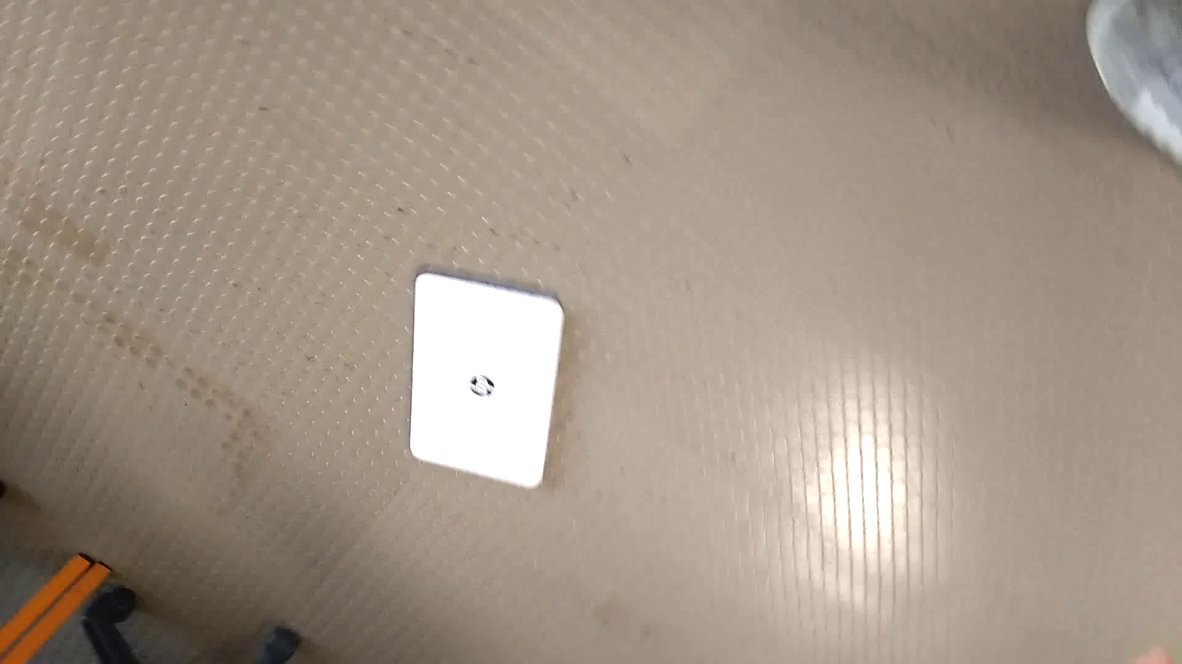laptop: (393, 258, 569, 502)
